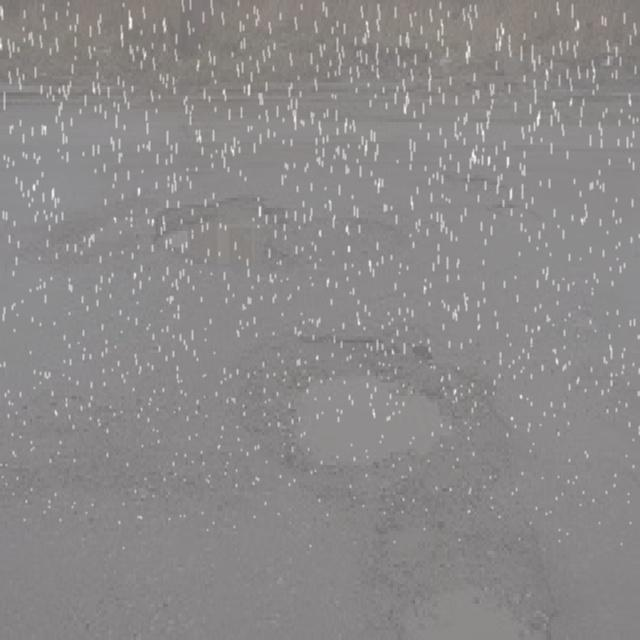Pothole: (260, 341, 496, 498), (356, 498, 571, 640), (156, 180, 295, 279)
